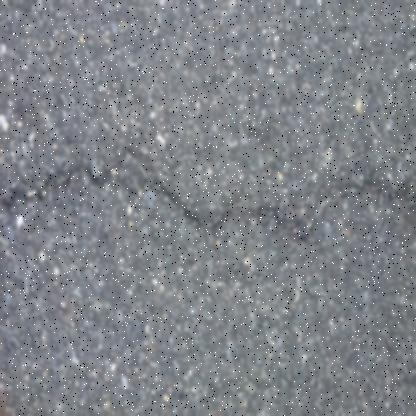Cracks: (0, 135, 415, 248)
